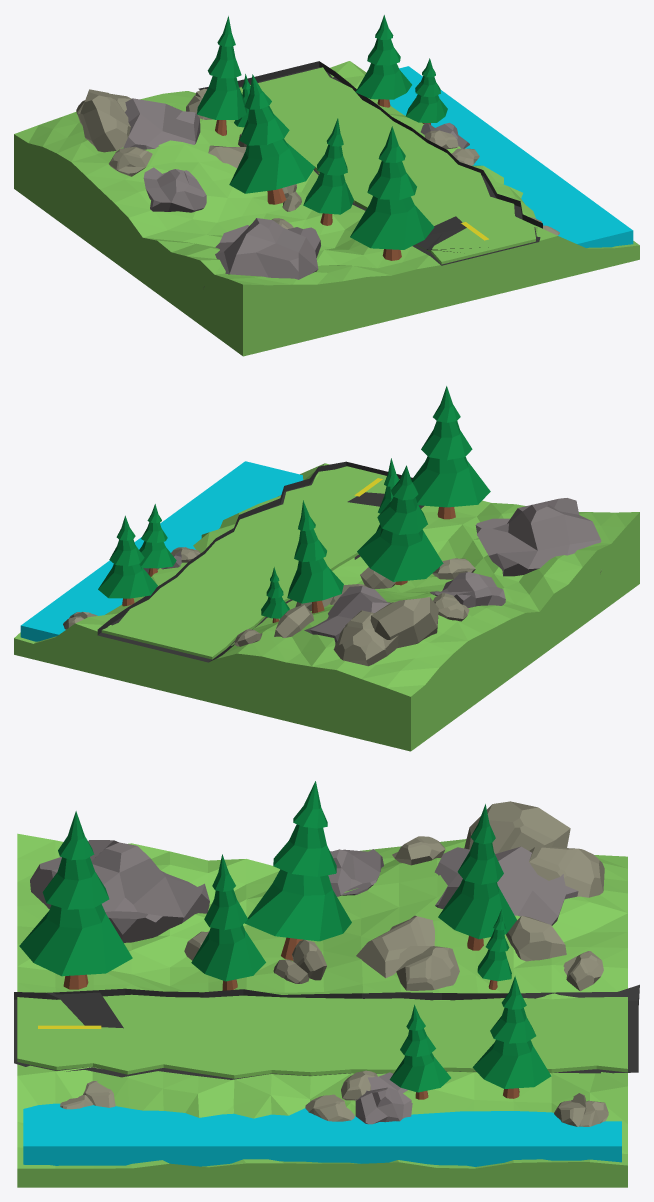
The model's file is forest.gltf.
3 renders of one model, top to bottom at view 1: azimuth 30°, elevation 25°; view 2: azimuth 150°, elevation 25°; view 3: azimuth 270°, elevation 25°, orthographic. The views are drawn at different scales.
Visible parts, largest first — view 1: Terrain, Water, Tree.002, Tree, Rock, Road, Rock.004, Tree.001, Tree.003, Tree.005, Rock.017, Rock.019 (+3 smaller); view 2: Terrain, Water, Rock, Tree.002, Tree, Tree.001, Road, Tree.005, Rock.017, Rock.001, Rock.004, Rock.019 (+5 smaller); view 3: Terrain, Water, Tree.002, Tree, Rock, Road, Tree.001, Rock.004, Tree.003, Tree.005, Rock.017, Tree.006 (+15 smaller).
Part boxes in pixels (x1,y1,x2,y2): Terrain: (14, 61, 639, 356); Water: (389, 66, 633, 247); Tree.002: (350, 126, 434, 260); Tree: (229, 74, 314, 204); Rock: (203, 218, 320, 287); Road: (198, 61, 542, 265); Rock.004: (123, 98, 200, 149); Tree.001: (197, 16, 247, 135); Tree.003: (303, 118, 353, 225); Tree.005: (355, 15, 411, 107); Rock.017: (80, 89, 130, 152); Rock.019: (143, 167, 206, 212); Terrain: (14, 463, 639, 751); Water: (20, 461, 303, 641); Rock: (475, 498, 601, 576); Tree.002: (411, 386, 490, 519); Tree: (357, 465, 443, 585); Tree.001: (287, 500, 343, 613); Road: (97, 461, 424, 662); Tree.005: (98, 515, 157, 606); Rock.017: (370, 597, 438, 648); Rock.001: (333, 610, 398, 666); Rock.004: (304, 586, 391, 643); Rock.019: (430, 572, 505, 607); Terrain: (17, 833, 627, 1187); Water: (23, 1103, 621, 1166); Tree.002: (19, 811, 132, 989); Tree: (244, 781, 351, 960); Rock: (30, 840, 209, 942); Road: (14, 984, 639, 1079); Tree.001: (438, 804, 516, 950); Rock.004: (434, 846, 578, 925); Tree.003: (191, 854, 265, 990); Tree.005: (472, 976, 551, 1098); Rock.017: (464, 801, 570, 853); Tree.006: (389, 1004, 450, 1099).
Size of the model in its own units: 10.01 by 4.17 by 10.25.
